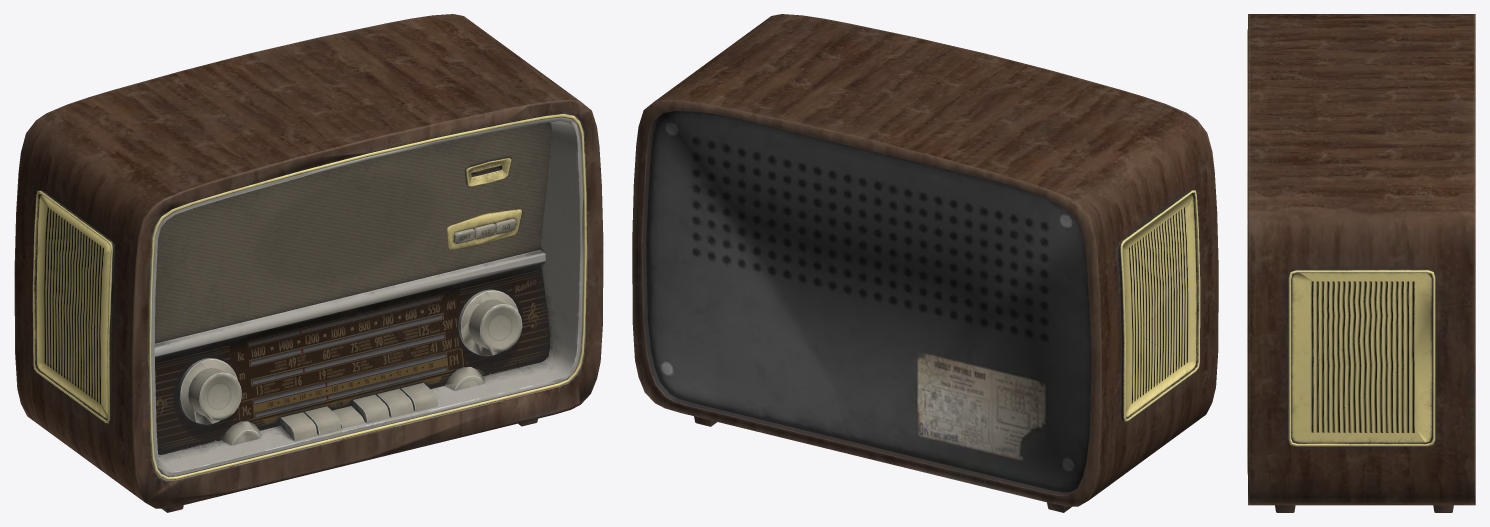
The model's file is radio.glb.
The picture shows the model from 3 angles, left to right: view 1: azimuth 30°, elevation 25°; view 2: azimuth 150°, elevation 25°; view 3: azimuth 270°, elevation 25°; orthographic projection. The views are drawn at different scales.
Parts seen in each view (by area): view 1: Object_6, Object_4, Object_8; view 2: Object_6, Object_8; view 3: Object_6, Object_8.
Boxes of the visible parts, x1,y1,x2,y2 form: Object_6: (14,14,603,512); Object_4: (155,122,551,454); Object_8: (32,157,522,445); Object_6: (632,14,1218,512); Object_8: (1118,189,1200,421); Object_6: (1247,14,1475,512); Object_8: (1288,269,1435,446).
Size of the model in its own units: 30.8 by 20.88 by 13.22.
Materials: 3 (3 with a texture image).
